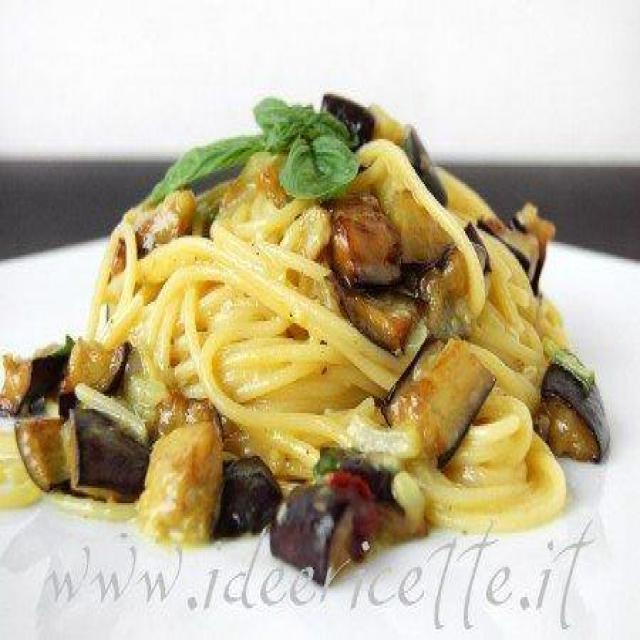Pasta with carbonara sauce: (31, 54, 625, 606)
